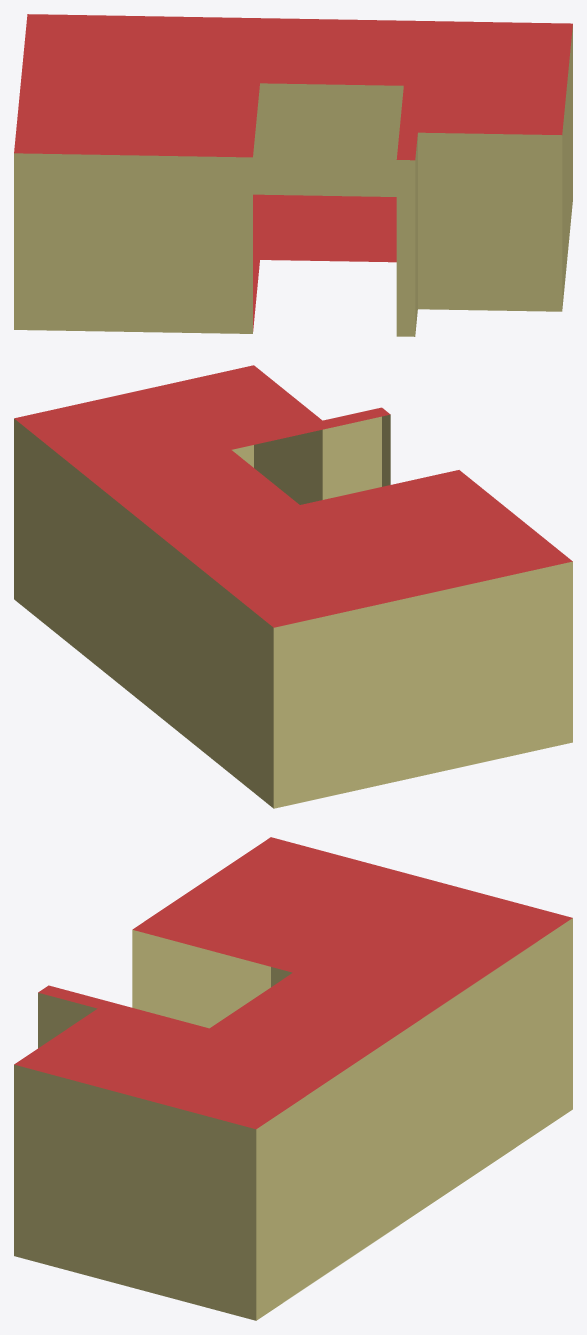
3 views of the same model, one above another, from view 1: azimuth 30°, elevation 25°; view 2: azimuth 150°, elevation 25°; view 3: azimuth 270°, elevation 25° (orthographic). The views are drawn at different scales.
Size of the model in its own units: 17.19 by 13.89 by 5.25.
